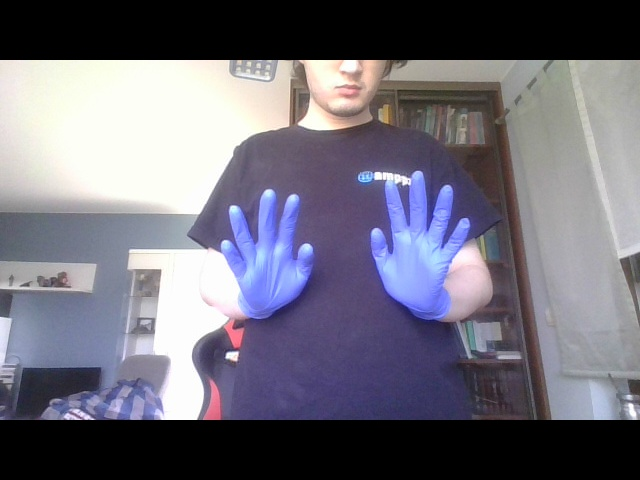glove: (368, 171, 471, 321), (221, 187, 316, 321)
